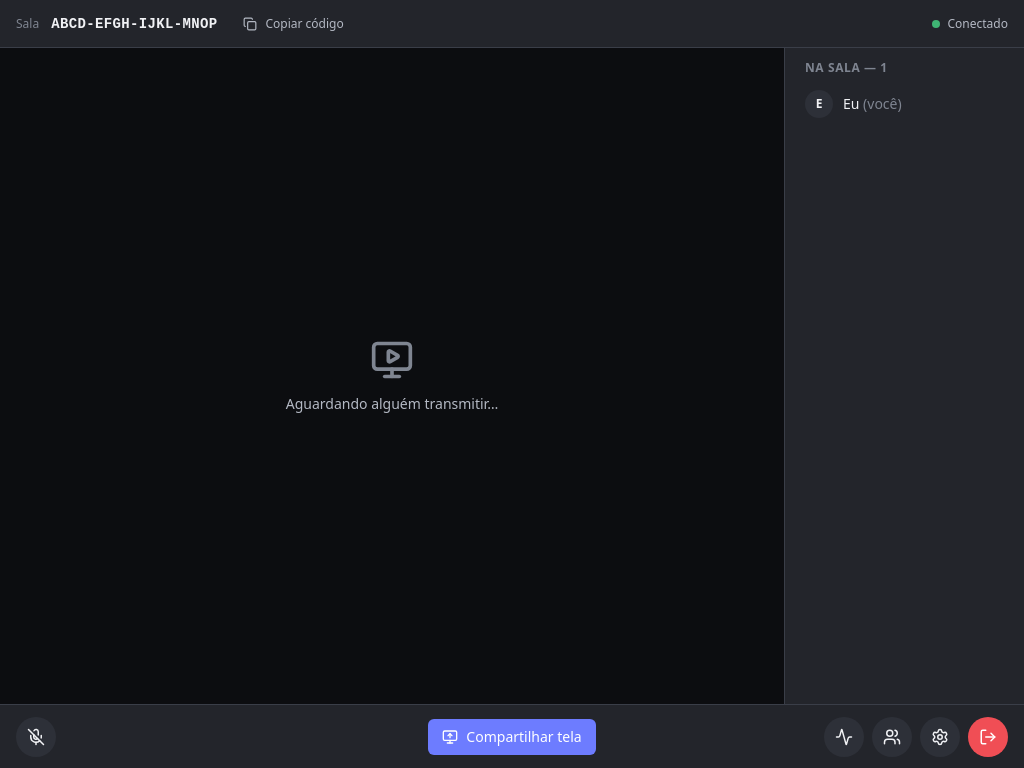
Test: tela da sala (transmissor) › avisa sobre eco enquanto transmite
Click the button "Compartilhar tela" at point(512, 736), box [428, 718, 596, 754]
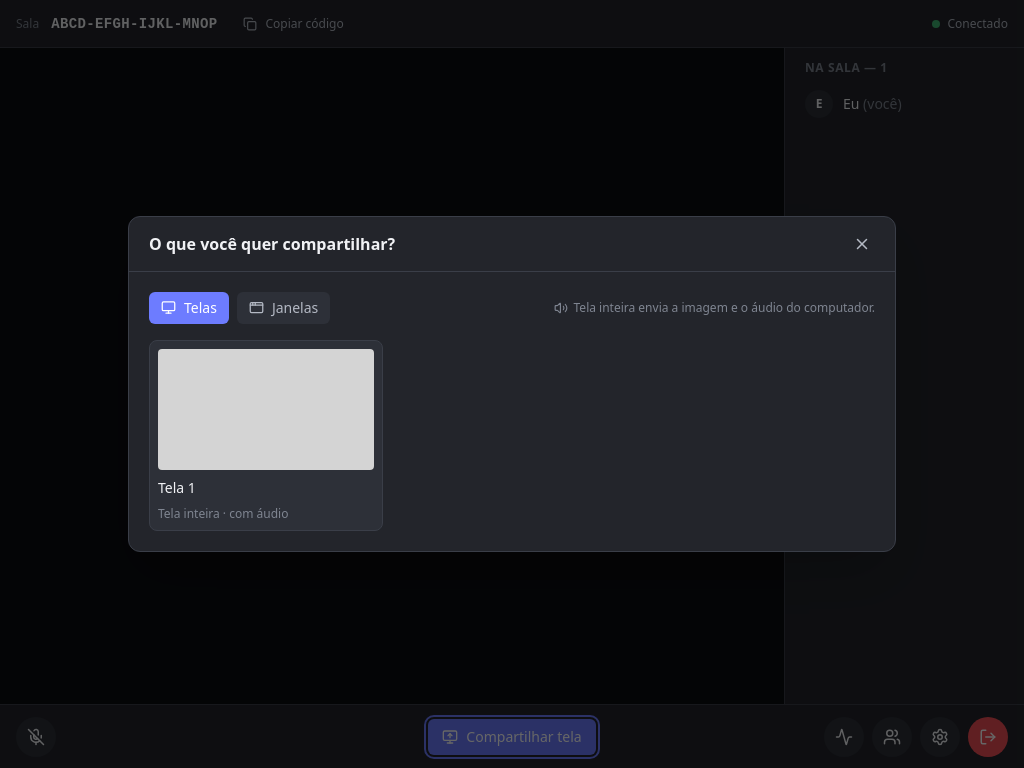
Click the button "Tela 1 Tela inteira · com áudio" at point(266, 436), box [149, 340, 383, 531]
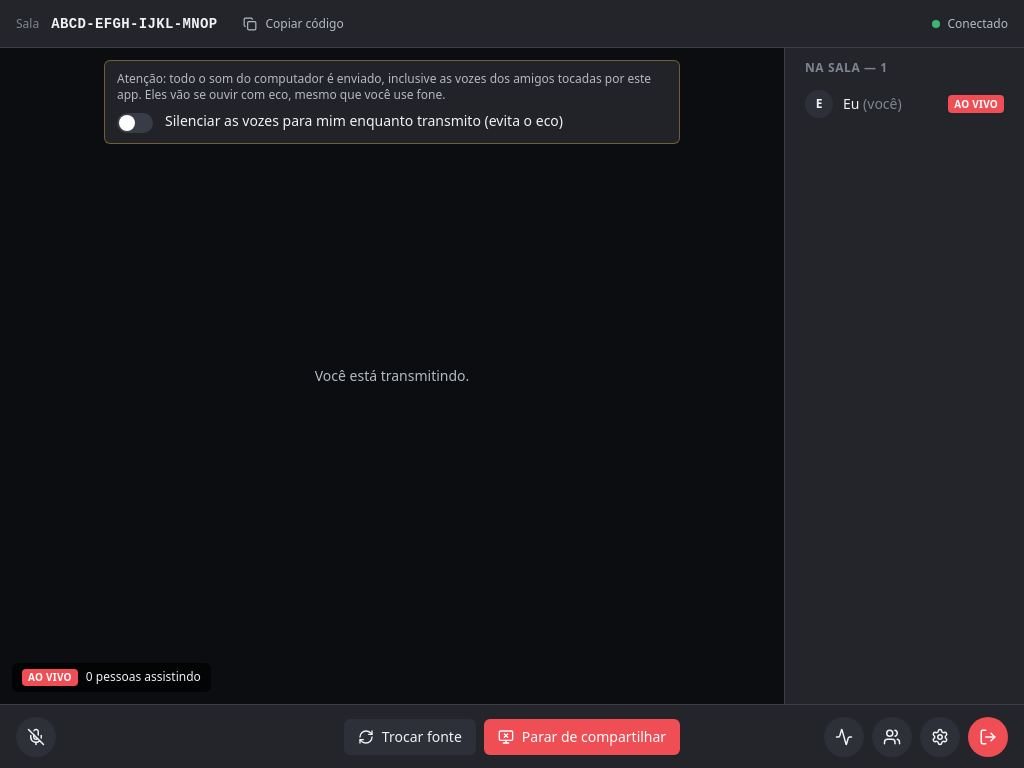
Now the text "vão se ouvir com eco" is shown, box [117, 70, 651, 103]
